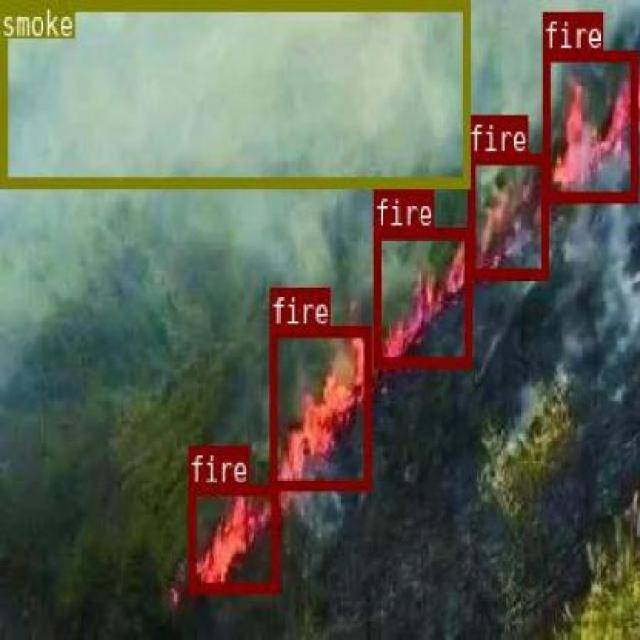Fire: (268, 324, 370, 488), (541, 49, 637, 202), (373, 226, 470, 366), (188, 482, 277, 592), (468, 153, 546, 276)
Smoke: (0, 0, 468, 185)
